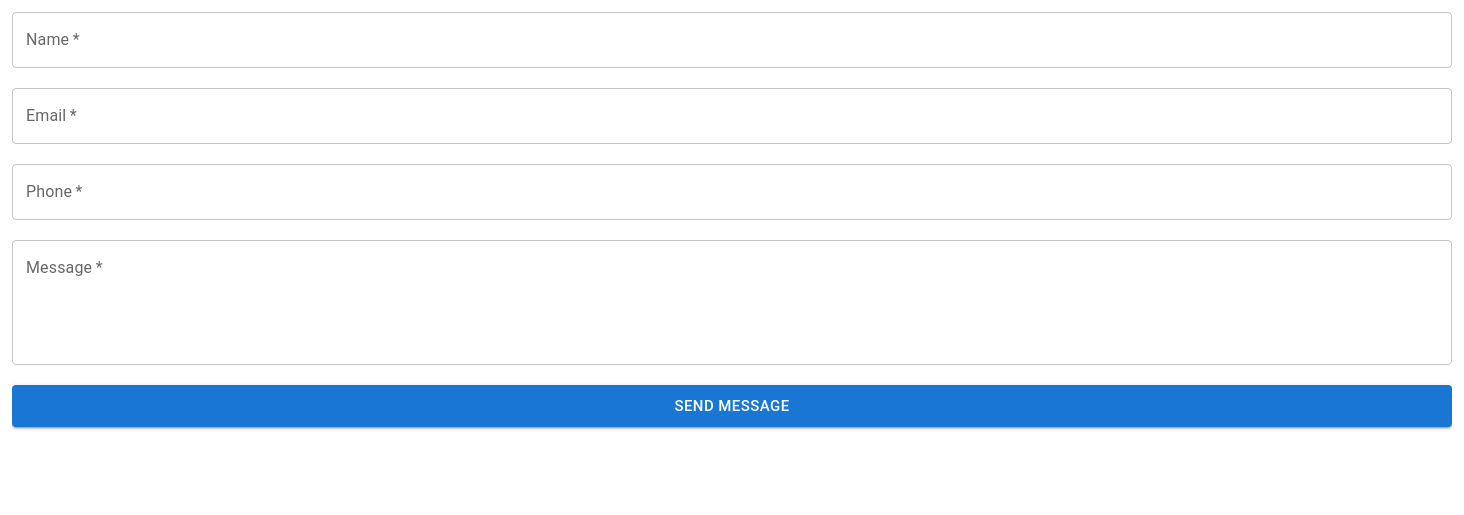
Test: ContactForm › shows the server error message when submission fails
Type "Jane Doe" into the field labelled "Name *".
click(732, 40); type("Jane Doe")  # box [12,12,1452,68]
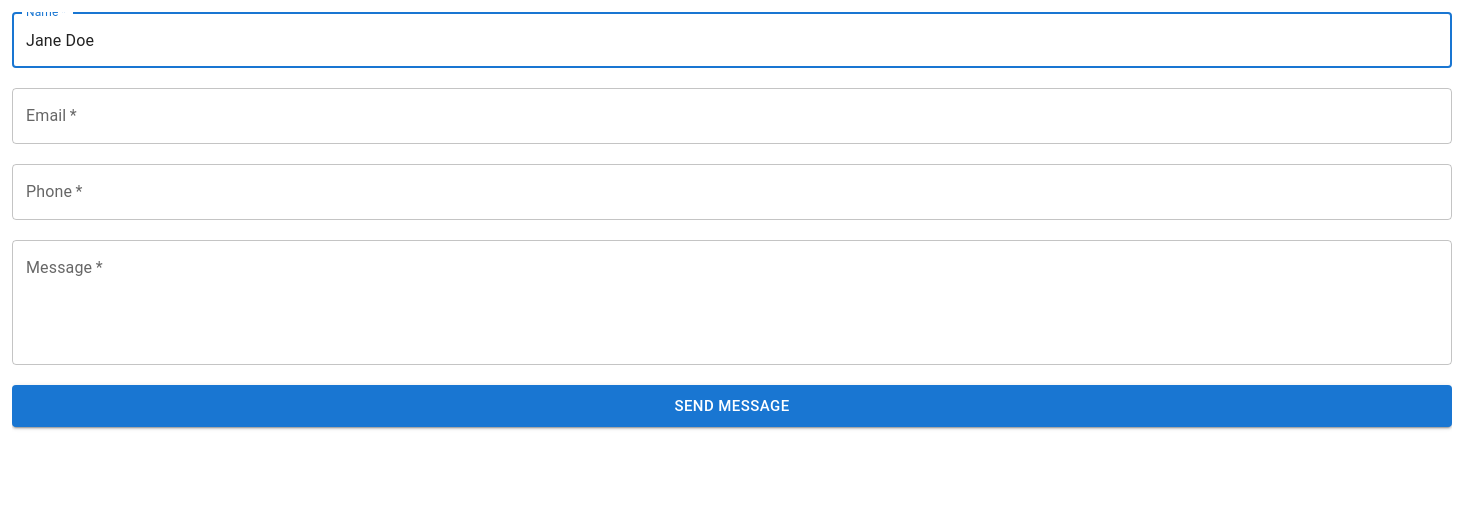
Type "jane@example.com" into the field labelled "Email *".
click(732, 116); type("jane@example.com")  # box [12,88,1452,144]
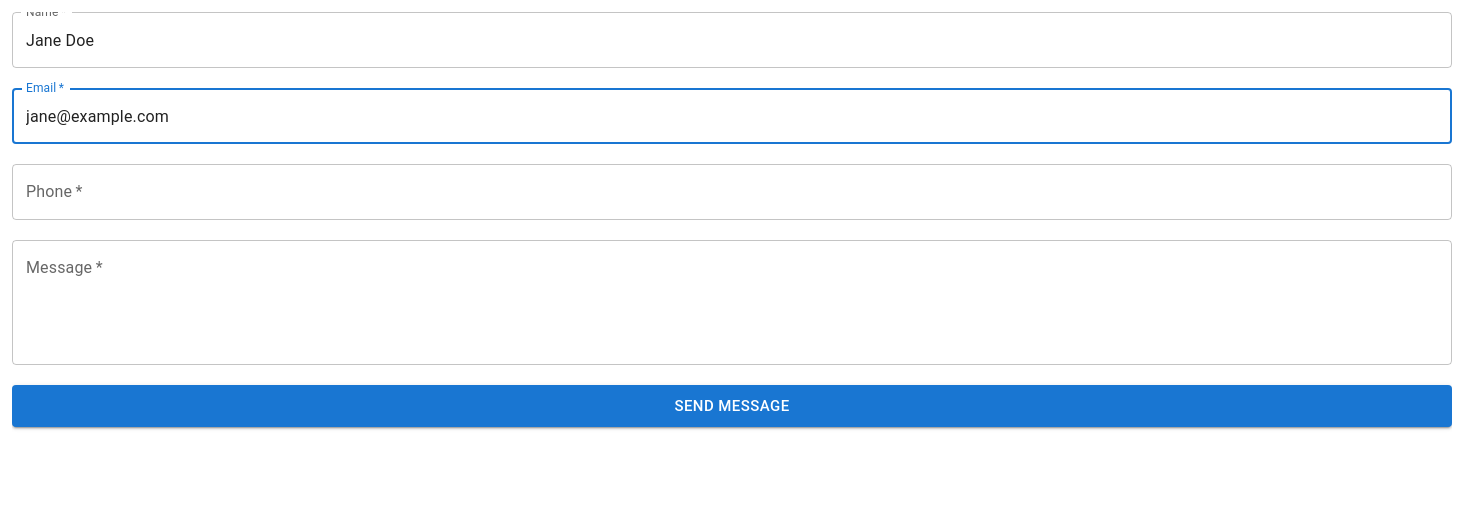
Type "555-1234" into the field labelled "Phone *".
click(732, 192); type("555-1234")  # box [12,164,1452,220]
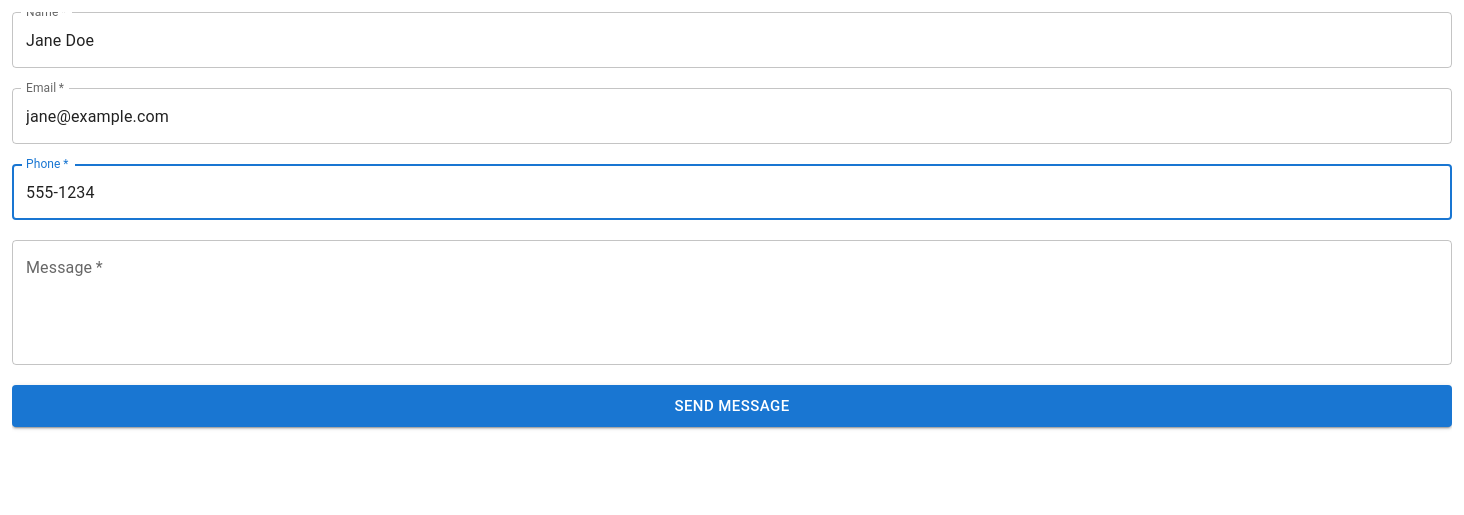
Type "Hello there" into the text box labelled "Message *".
click(732, 302); type("Hello there")  # box [26,256,1438,348]
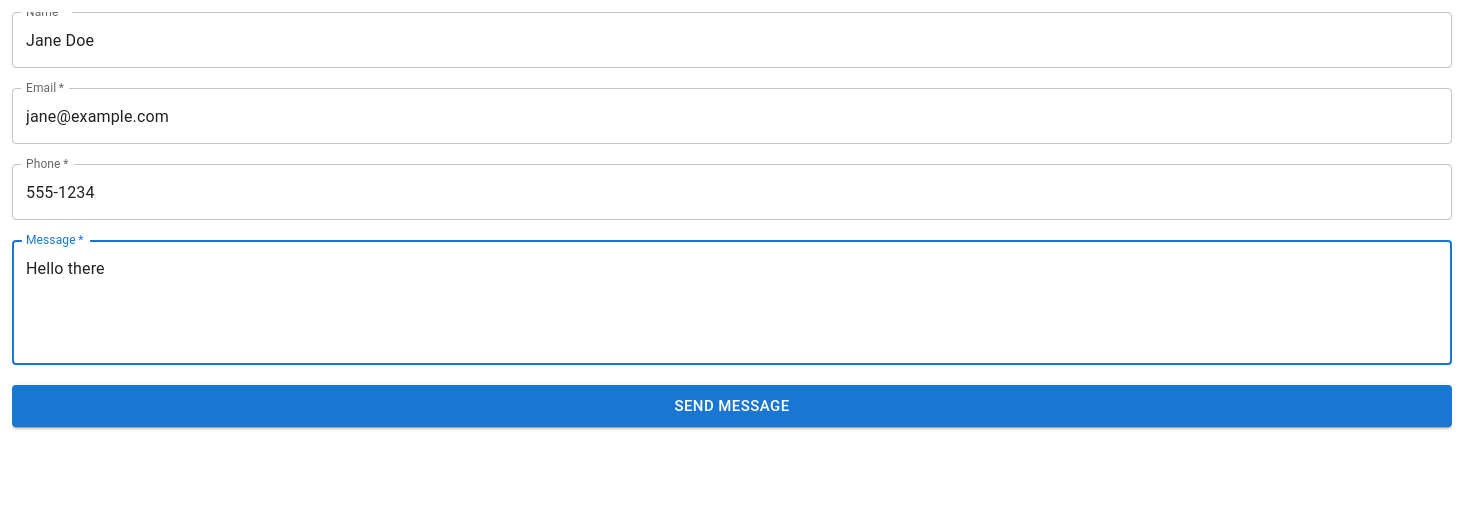
Click the button "Send Message".
click(732, 406)  # box [12,385,1452,427]
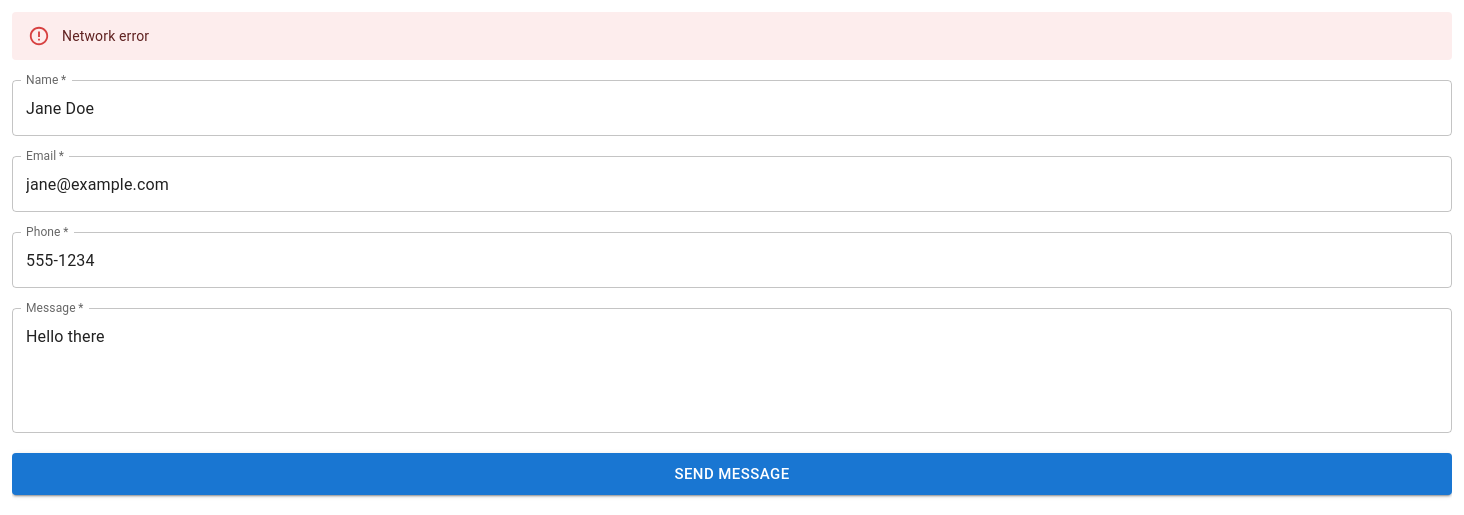
Check: the text "Network error" is shown, box [62,28,149,44]
